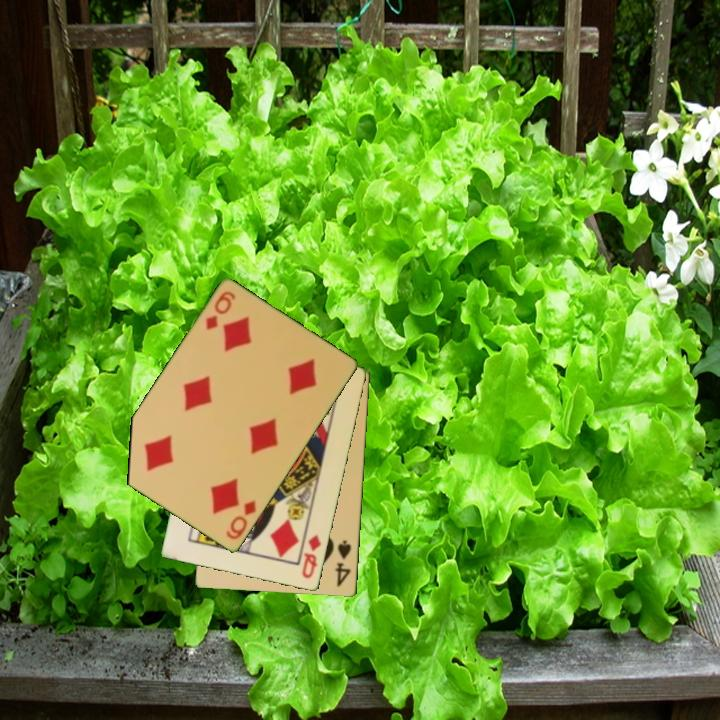4s: (332, 537, 354, 590)
6d: (202, 288, 239, 334), (223, 497, 259, 543)
Qd: (299, 531, 324, 581)
